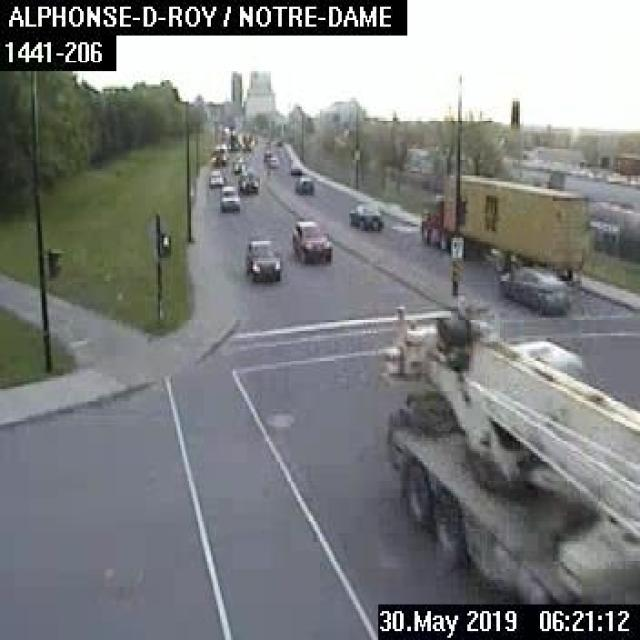vehicle: (376, 302, 638, 602), (416, 170, 588, 274), (495, 260, 572, 317), (293, 217, 331, 264), (244, 236, 280, 278), (347, 200, 380, 227), (218, 183, 241, 211), (238, 169, 258, 192), (206, 166, 224, 188), (294, 175, 312, 193), (231, 157, 247, 174), (210, 149, 226, 164), (264, 151, 274, 167), (288, 161, 300, 173)
